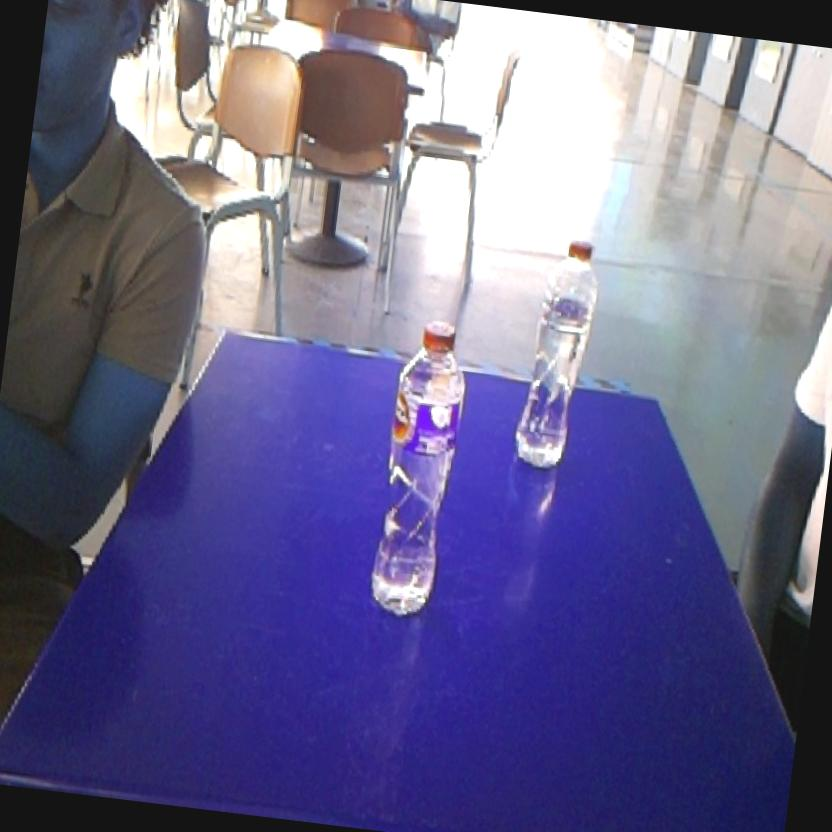good: (356, 300, 480, 634)
no_label: (506, 218, 608, 484)
